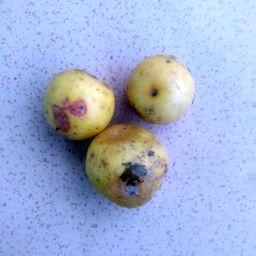lemon: (83, 120, 171, 211), (42, 66, 118, 142), (123, 52, 198, 127)
